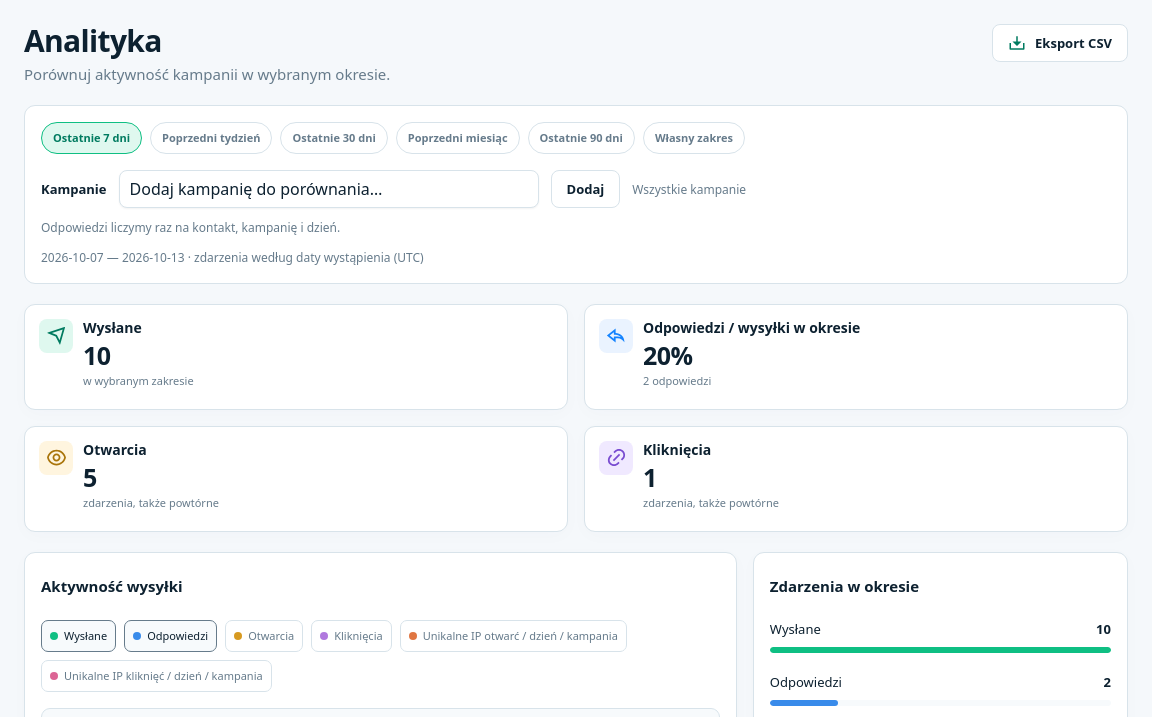
it: blocks oversized custom ranges and export without issuing a daily query
Click the button "Własny zakres" at [694, 138], box left=643, top=122, right=745, bottom=154
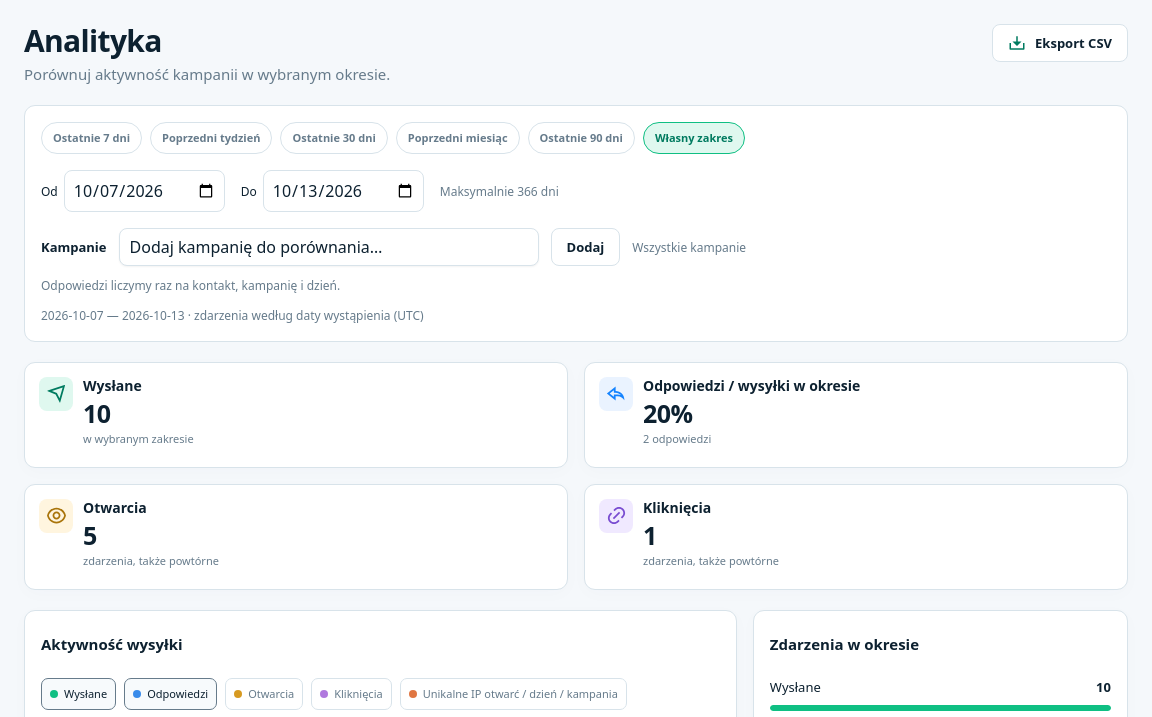
Type "2020-01-01" into the date field named "Data początkowa" at [144, 191], box left=64, top=170, right=225, bottom=212
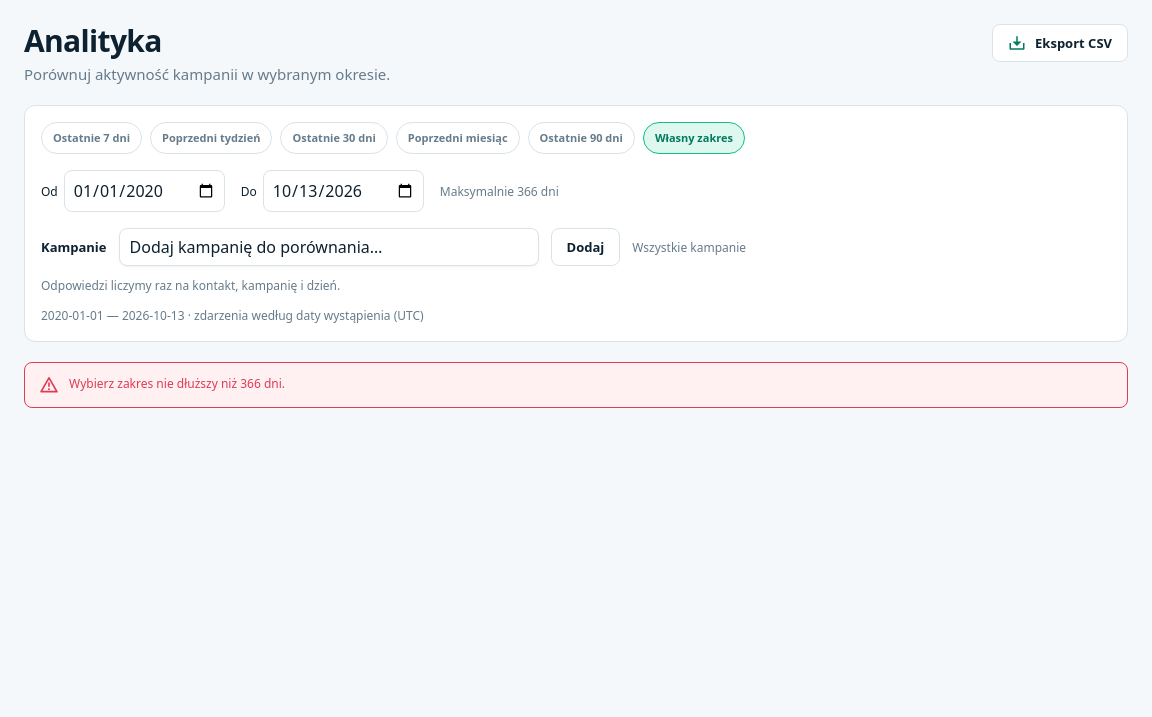
Expected: the button "Eksport CSV" is disabled, left=992, top=24, right=1128, bottom=62
Result: the message shows "366 dni" at left=69, top=375, right=285, bottom=392
